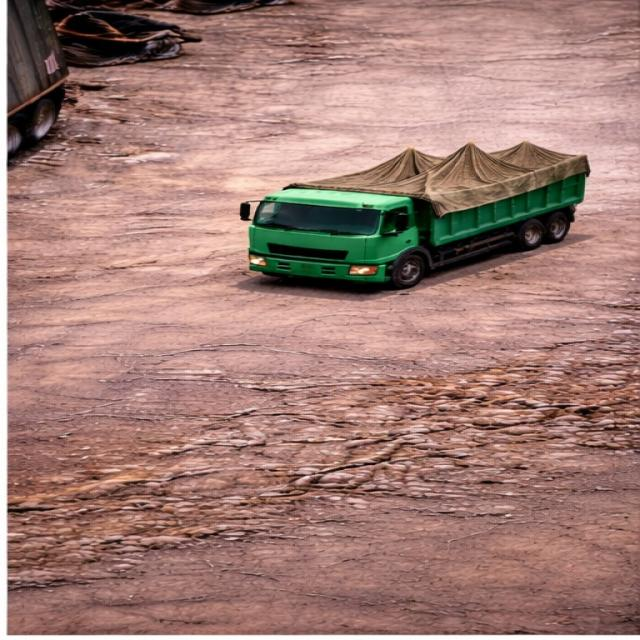Box: (294, 139, 600, 199)
Truck: (231, 120, 621, 292)
